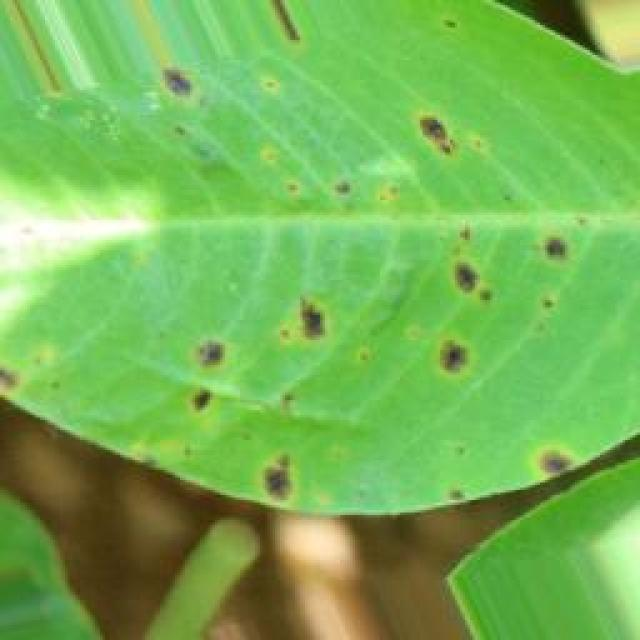Sigatoka: (164, 334, 232, 431), (263, 0, 338, 78), (404, 106, 482, 178), (267, 294, 341, 369), (139, 54, 204, 127), (301, 157, 392, 209), (414, 331, 484, 385), (529, 422, 584, 488), (344, 335, 404, 395), (534, 223, 592, 284), (254, 452, 312, 499), (452, 256, 493, 307), (530, 286, 558, 330)
